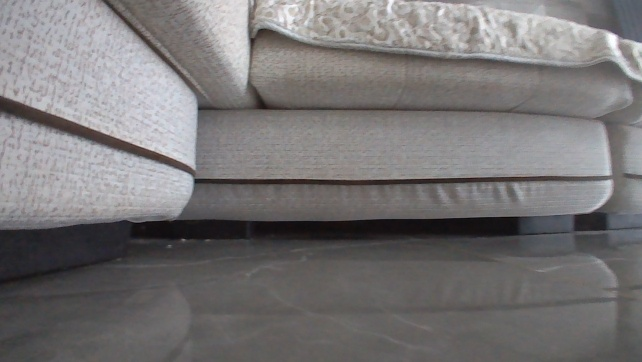sofa1: (0, 0, 641, 282)
